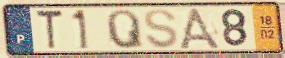1: (70, 8, 91, 51)
8: (219, 8, 250, 48)
A: (176, 6, 223, 51)
Q: (104, 8, 146, 50)
S: (143, 8, 180, 50)
T: (34, 8, 65, 52)
